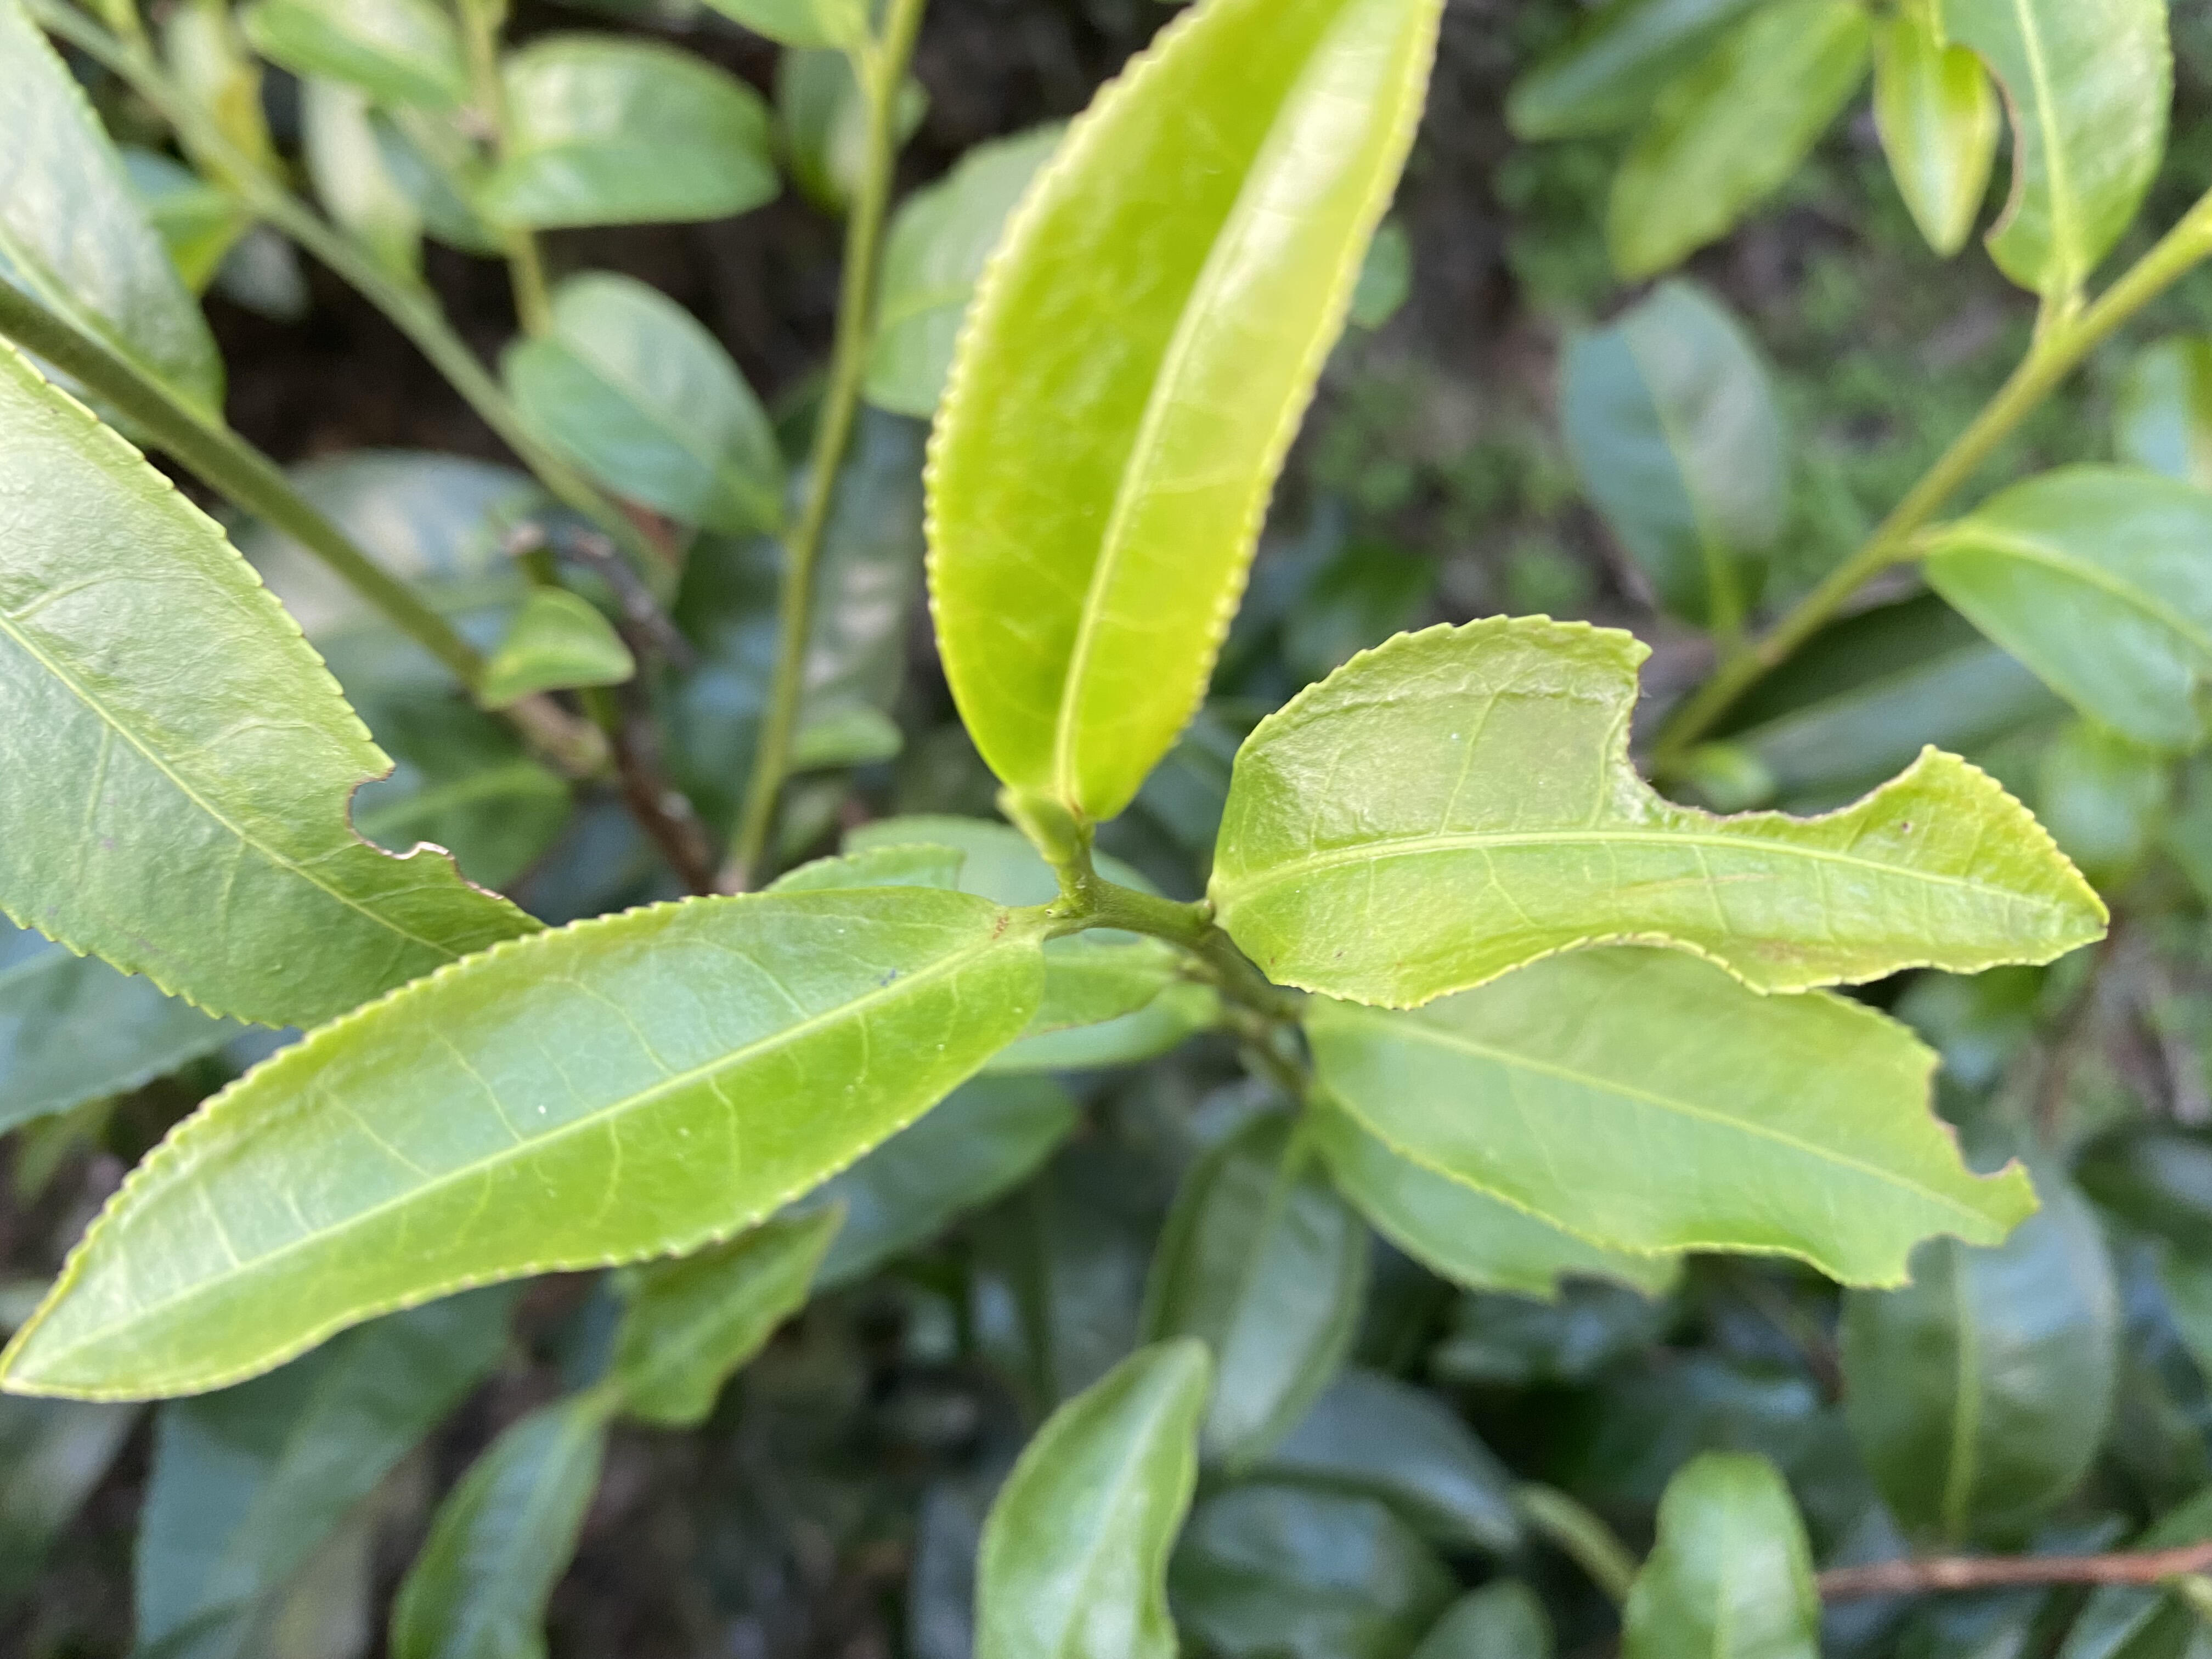chihuo_high: (1211, 613, 2114, 1016), (1303, 950, 2041, 1291)
chihuo_low: (3, 340, 549, 1035)
healthy: (3, 877, 1059, 1412), (913, 5, 1449, 835)
